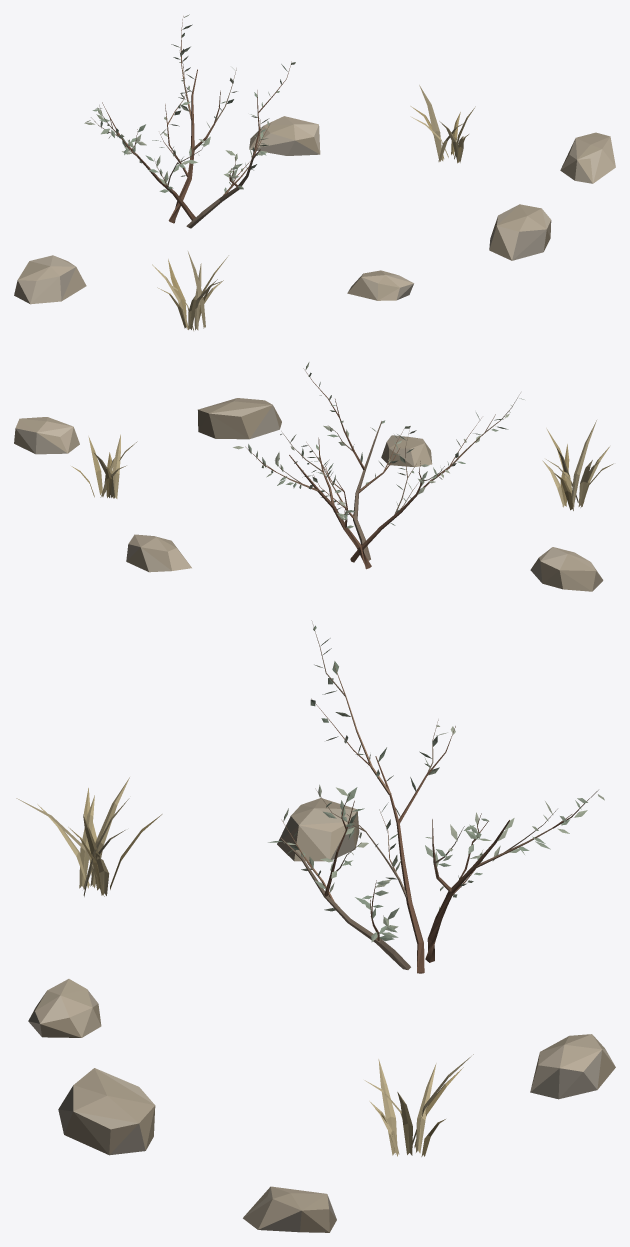
The picture shows the model from 3 angles, top to bottom: view 1: azimuth 30°, elevation 25°; view 2: azimuth 150°, elevation 25°; view 3: azimuth 270°, elevation 25°; orthographic projection. The views are drawn at different scales.
Visible parts, largest first — view 1: c04; view 2: c04; view 3: c04.
Boxes of the visible parts, x1,y1,x2,y2 form: c04: [14, 14, 615, 330]; c04: [14, 362, 613, 591]; c04: [16, 620, 615, 1232].
Size of the model in its own units: 1.35 by 0.3901 by 0.8166.
